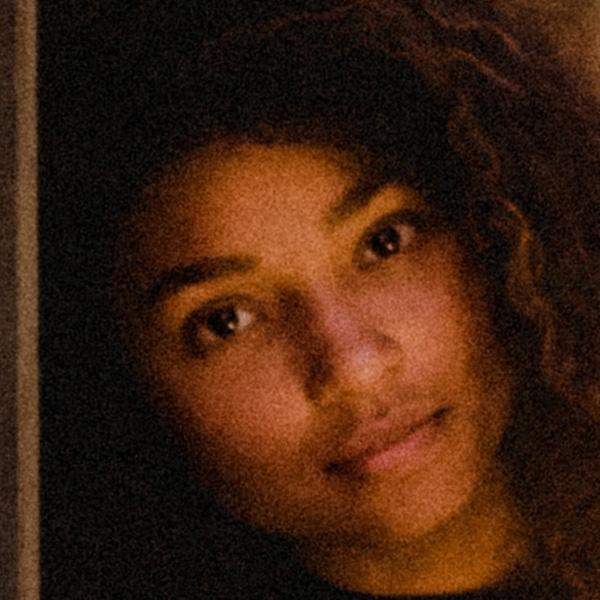Eyes: (165, 288, 281, 360), (349, 201, 435, 278)
